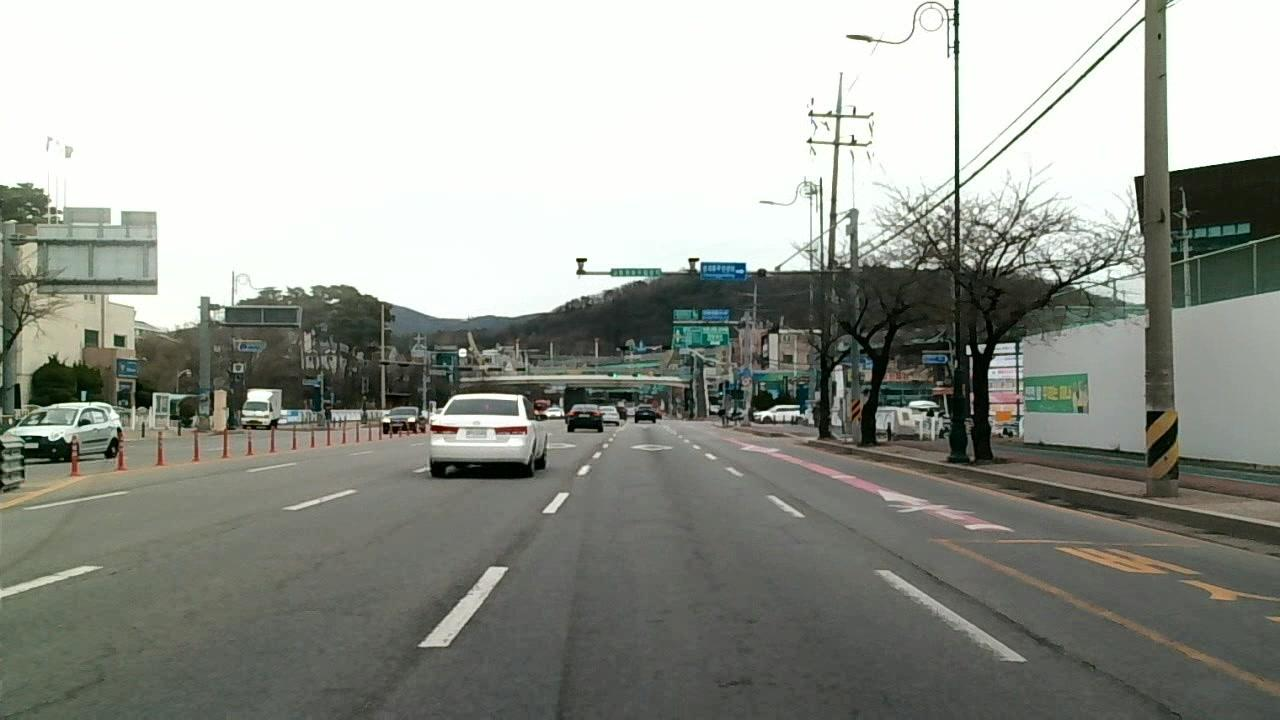vcrack: (1006, 625, 1176, 720), (863, 536, 1001, 613), (10, 649, 135, 720), (794, 495, 857, 534)
